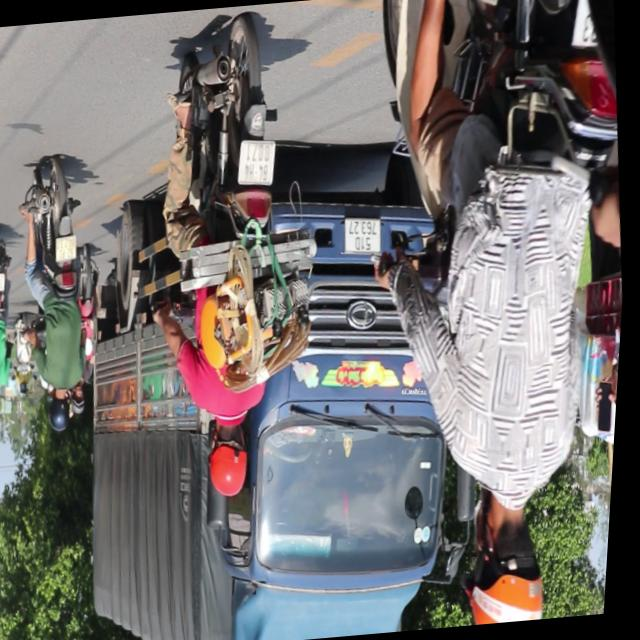helmet: (467, 481, 558, 625), (207, 414, 262, 500), (51, 390, 81, 434)
licenseplate: (341, 0, 640, 632), (126, 8, 335, 508), (7, 154, 114, 438), (0, 223, 33, 423)
motorcyclist: (0, 393, 7, 420)
nohelmet: (237, 138, 281, 187), (57, 235, 81, 262), (0, 272, 10, 292)
